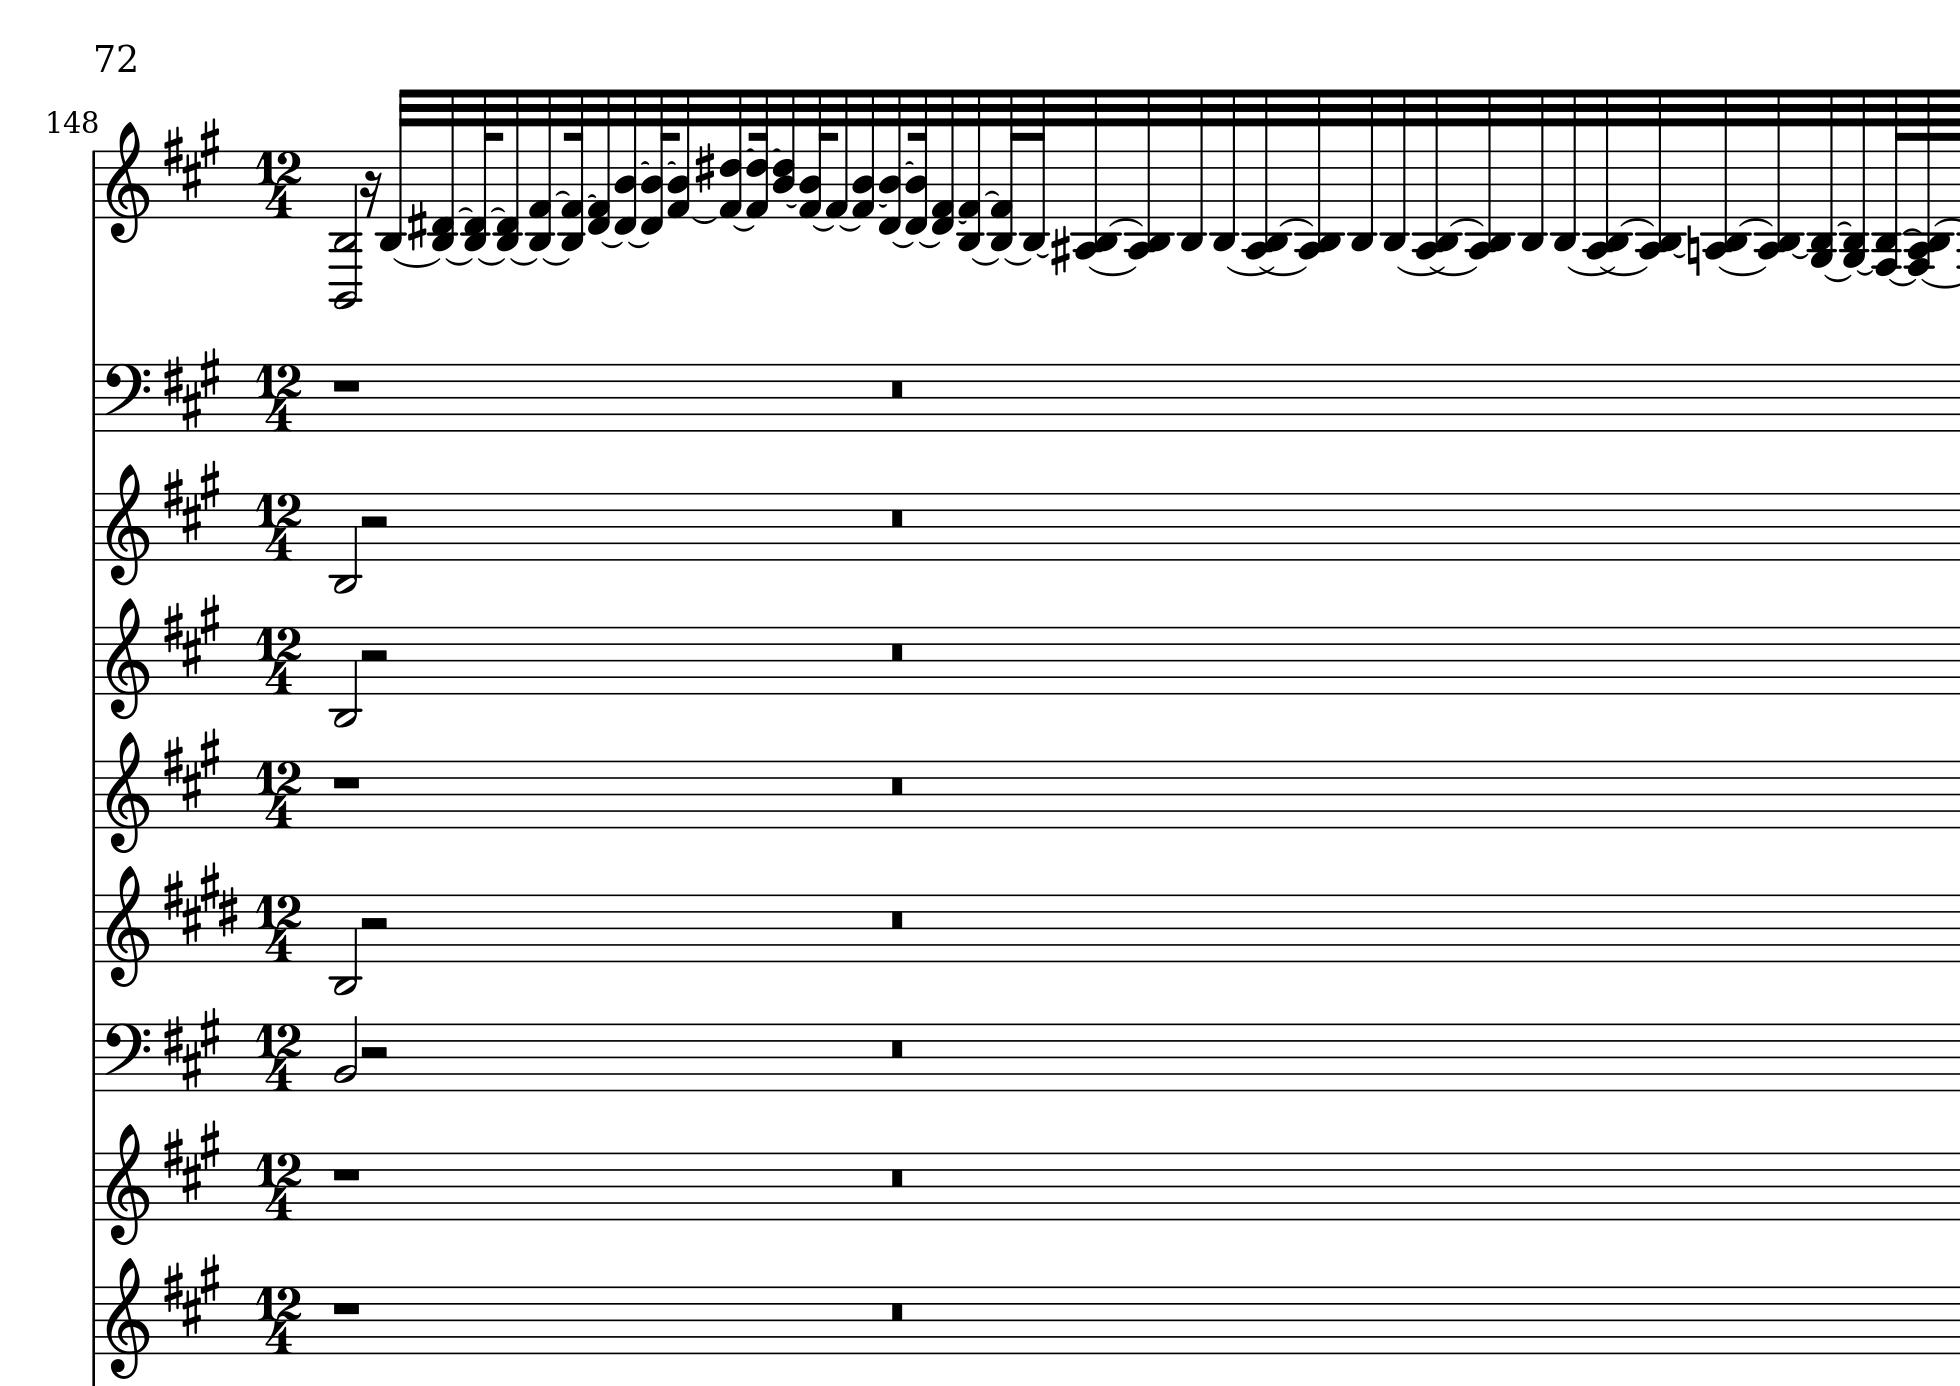1: (253, 148, 276, 184), (253, 361, 276, 397), (253, 490, 276, 526), (253, 625, 276, 660), (253, 759, 276, 793), (253, 892, 276, 927), (253, 1021, 276, 1056), (253, 1285, 276, 1320), (255, 1150, 276, 1186), (46, 108, 61, 136)
2: (274, 148, 304, 184), (274, 757, 304, 793), (274, 1150, 304, 1186), (274, 624, 304, 658), (274, 892, 304, 927), (274, 361, 303, 397), (274, 490, 303, 526), (274, 1020, 303, 1056), (274, 1285, 304, 1318), (115, 42, 138, 73)
2_-3: (328, 493, 360, 595), (330, 624, 360, 727), (330, 892, 358, 994)
2_2: (333, 1012, 358, 1092)
4: (261, 183, 298, 217), (261, 396, 297, 430), (262, 525, 297, 559), (262, 1318, 297, 1353), (262, 658, 295, 694), (261, 793, 297, 826), (262, 1054, 295, 1090), (262, 927, 295, 961), (262, 1186, 295, 1219), (63, 108, 79, 135)
7: (94, 40, 115, 73)
8: (81, 108, 97, 133)
A_S: (160, 346, 220, 430), (162, 117, 220, 201), (162, 1006, 220, 1090), (162, 594, 220, 676), (162, 727, 220, 810), (163, 1252, 220, 1336), (162, 460, 220, 541), (162, 1120, 220, 1201)
E_S: (160, 861, 241, 945)
Fclef: (103, 361, 151, 433), (103, 1021, 151, 1093)
Gclef: (103, 462, 151, 588), (103, 730, 151, 856), (103, 1122, 151, 1248), (103, 1255, 151, 1381), (103, 120, 151, 244), (103, 864, 151, 988), (105, 595, 151, 721)
Natural: (1686, 226, 1701, 279)
Rests1: (327, 1297, 366, 1317), (328, 373, 364, 394), (328, 1162, 364, 1183), (328, 772, 364, 790)
Rests16: (358, 168, 382, 219)
Rests2: (358, 511, 391, 531), (358, 913, 391, 933), (358, 1042, 391, 1062), (358, 646, 391, 664)
Sharp: (693, 144, 717, 195), (1050, 223, 1071, 277), (406, 199, 427, 252)
Single_barline: (85, 150, 100, 217), (87, 364, 102, 432), (87, 760, 100, 829), (87, 1152, 100, 1221), (87, 1285, 100, 1354), (87, 627, 100, 694), (87, 894, 100, 961), (87, 1023, 100, 1090), (87, 493, 100, 559)
Slur: (1717, 262, 1770, 276), (391, 256, 441, 268), (1264, 264, 1309, 276), (1086, 265, 1137, 276), (1225, 264, 1263, 277), (1437, 264, 1479, 276), (1603, 264, 1650, 274), (1396, 264, 1435, 276), (1921, 277, 1960, 289), (1567, 264, 1605, 276), (970, 255, 1000, 265), (475, 256, 507, 265), (1002, 256, 1033, 265), (444, 256, 474, 265), (508, 256, 538, 265), (541, 256, 571, 265), (1822, 271, 1852, 280), (690, 214, 718, 223), (730, 222, 757, 231), (1890, 277, 1917, 286), (810, 222, 835, 231), (837, 222, 862, 231), (891, 238, 913, 247)
TimeSig: (253, 759, 304, 829), (253, 1021, 304, 1092), (253, 1284, 304, 1354), (253, 1150, 304, 1219), (253, 361, 303, 432), (253, 490, 303, 561), (253, 625, 303, 694), (255, 892, 304, 961), (255, 148, 303, 219)
